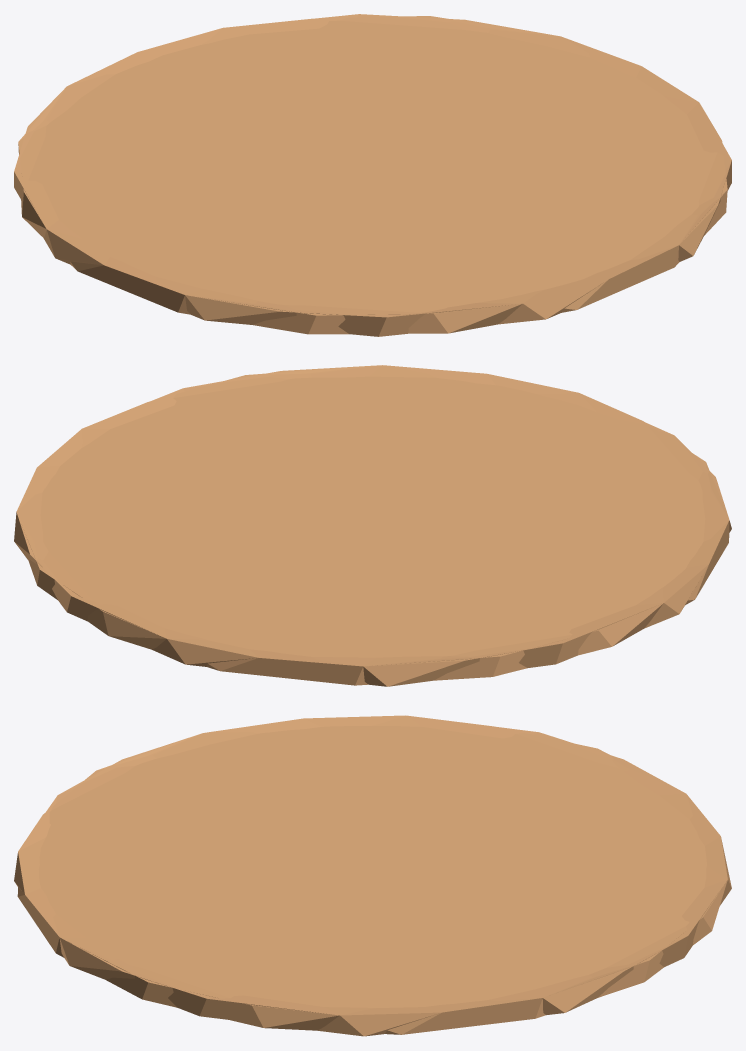
Rendered from masa.glb.
3 views of the same model, one above another, from view 1: azimuth 30°, elevation 25°; view 2: azimuth 150°, elevation 25°; view 3: azimuth 270°, elevation 25° (orthographic).
Parts seen in each view (by area): view 1: masa; view 2: masa; view 3: masa.
Part boxes in pixels (x1=…): masa: x1=14, y1=14, x2=731, y2=336; masa: x1=14, y1=365, x2=731, y2=686; masa: x1=14, y1=715, x2=731, y2=1036.
Size of the model in its own units: 2.02 by 0.06 by 2.02.
